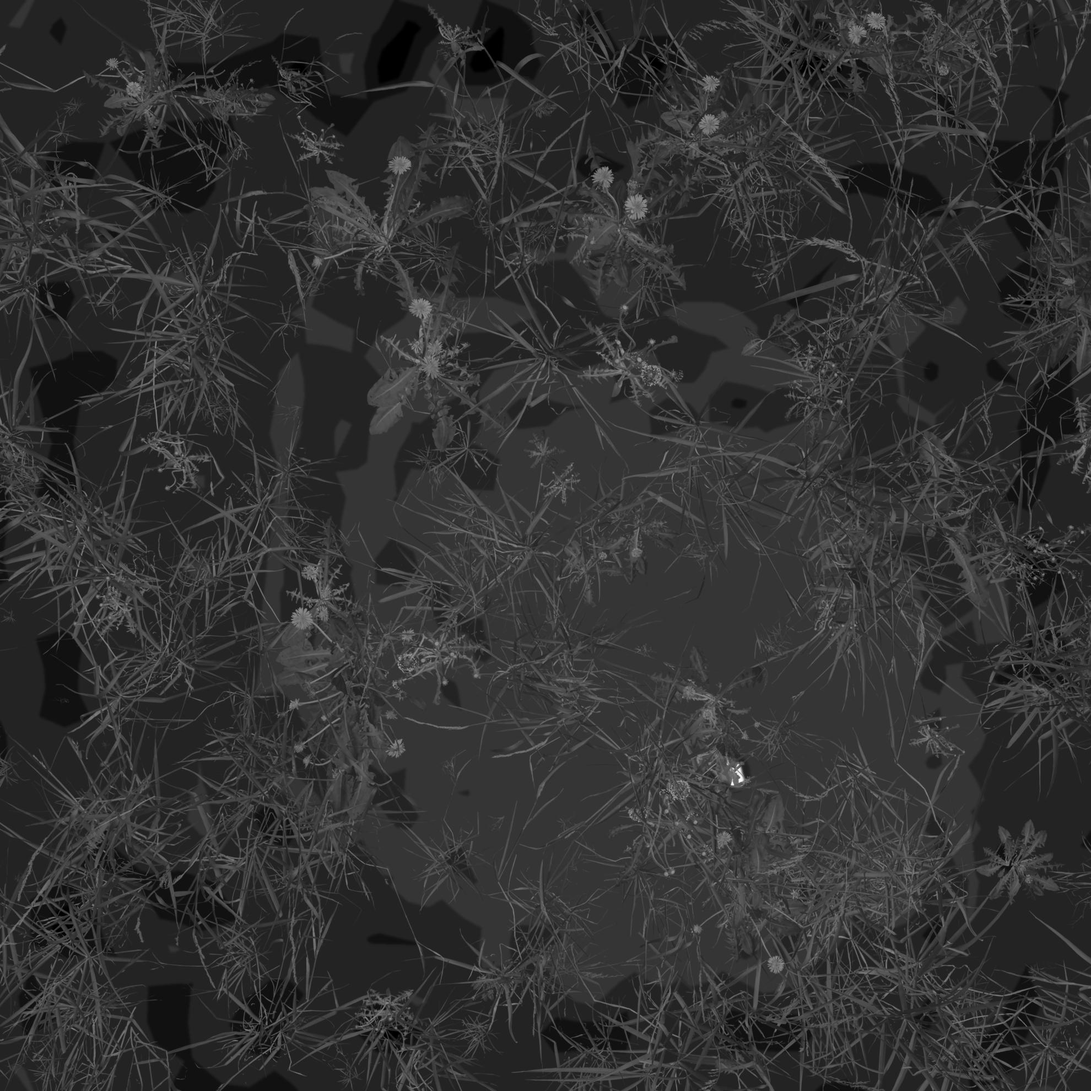landmine: (696, 745, 746, 785)
